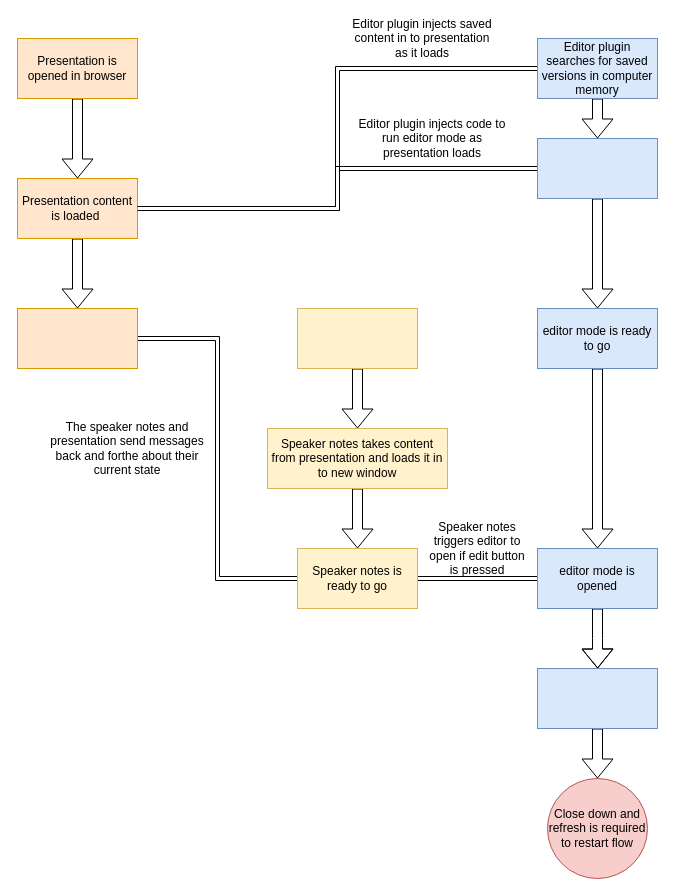
The diagram is 675 pixels wide and 896 high, and some of its shapes have lost their labels. Here are the shapes that lost their labels. From the top down, the centre of each, then its label:
point (597, 168): Editor plugin runs set up code
point (77, 338): Presentation is ready to go
point (357, 338): Speaker notes are opened
point (597, 698): Edits are made and saved to computer memory.
